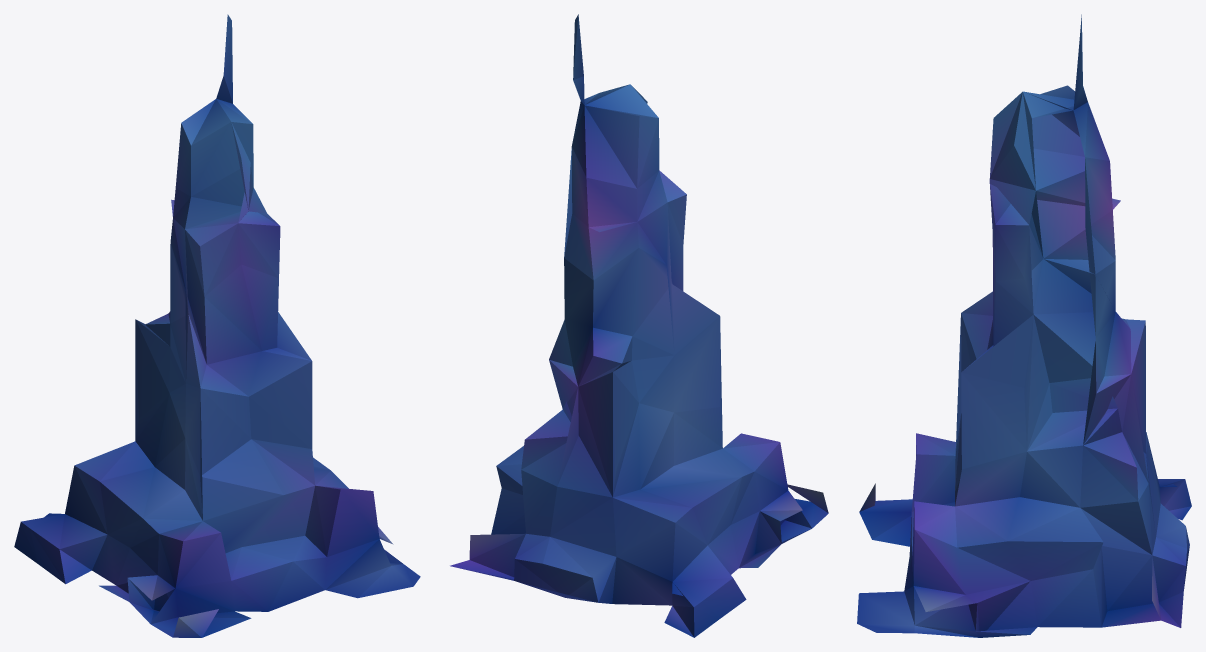
Rendered from neon-tower.glb.
3 views of the same model, side by side, from view 1: azimuth 30°, elevation 25°; view 2: azimuth 150°, elevation 25°; view 3: azimuth 270°, elevation 25° (orthographic). The views are drawn at different scales.
Parts seen in each view (by area): view 1: neon-tower-far; view 2: neon-tower-far; view 3: neon-tower-far.
Boxes of the visible parts, bbox=[...] form: neon-tower-far: bbox=[14, 14, 420, 637]; neon-tower-far: bbox=[450, 14, 828, 637]; neon-tower-far: bbox=[857, 14, 1191, 637].
Size of the model in its own units: 0.5107 by 0.9861 by 0.516.
